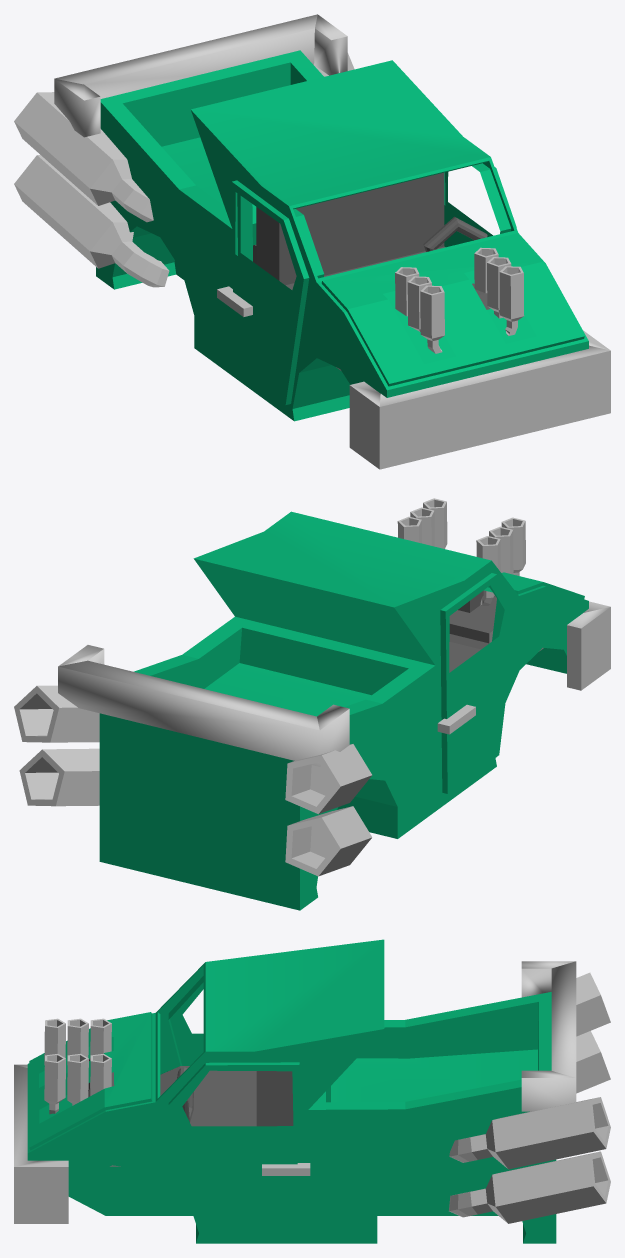
File: DefaultCar.fbx
3 views of the same model, one above another, from view 1: azimuth 30°, elevation 25°; view 2: azimuth 150°, elevation 25°; view 3: azimuth 270°, elevation 25° (orthographic). The views are drawn at different scales.
Parts seen in each view (by area): view 1: car exterior, pipes, bump, hood, car interior, back bump, porte gauche, porte droite; view 2: car exterior, pipes, back bump, porte gauche, bump, car interior, hood; view 3: car exterior, pipes, porte droite, hood, car interior, back bump, bump, porte gauche.
Boxes of the visible parts, bbox=[...] form: car exterior: bbox=[96, 50, 588, 421]; pipes: bbox=[14, 53, 524, 353]; bump: bbox=[349, 330, 610, 469]; hood: bbox=[321, 233, 584, 386]; car interior: bbox=[253, 172, 490, 370]; back bump: bbox=[54, 14, 347, 137]; porte gauche: bbox=[217, 180, 309, 404]; porte droite: bbox=[444, 167, 516, 247]; car exterior: bbox=[99, 511, 588, 910]; pipes: bbox=[14, 498, 525, 876]; back bump: bbox=[58, 645, 349, 766]; porte gauche: bbox=[437, 573, 517, 793]; bump: bbox=[567, 601, 610, 690]; car interior: bbox=[449, 590, 543, 672]; hood: bbox=[488, 572, 584, 598]; car exterior: bbox=[27, 939, 556, 1243]; pipes: bbox=[44, 972, 610, 1223]; porte droite: bbox=[168, 1062, 310, 1233]; hood: bbox=[29, 1012, 152, 1150]; car interior: bbox=[88, 1058, 293, 1166]; back bump: bbox=[521, 961, 576, 1111]; bump: bbox=[14, 1064, 68, 1223]; porte gauche: bbox=[170, 982, 203, 1065].
Size of the model in its own units: 3.26 by 5.64 by 2.23.
